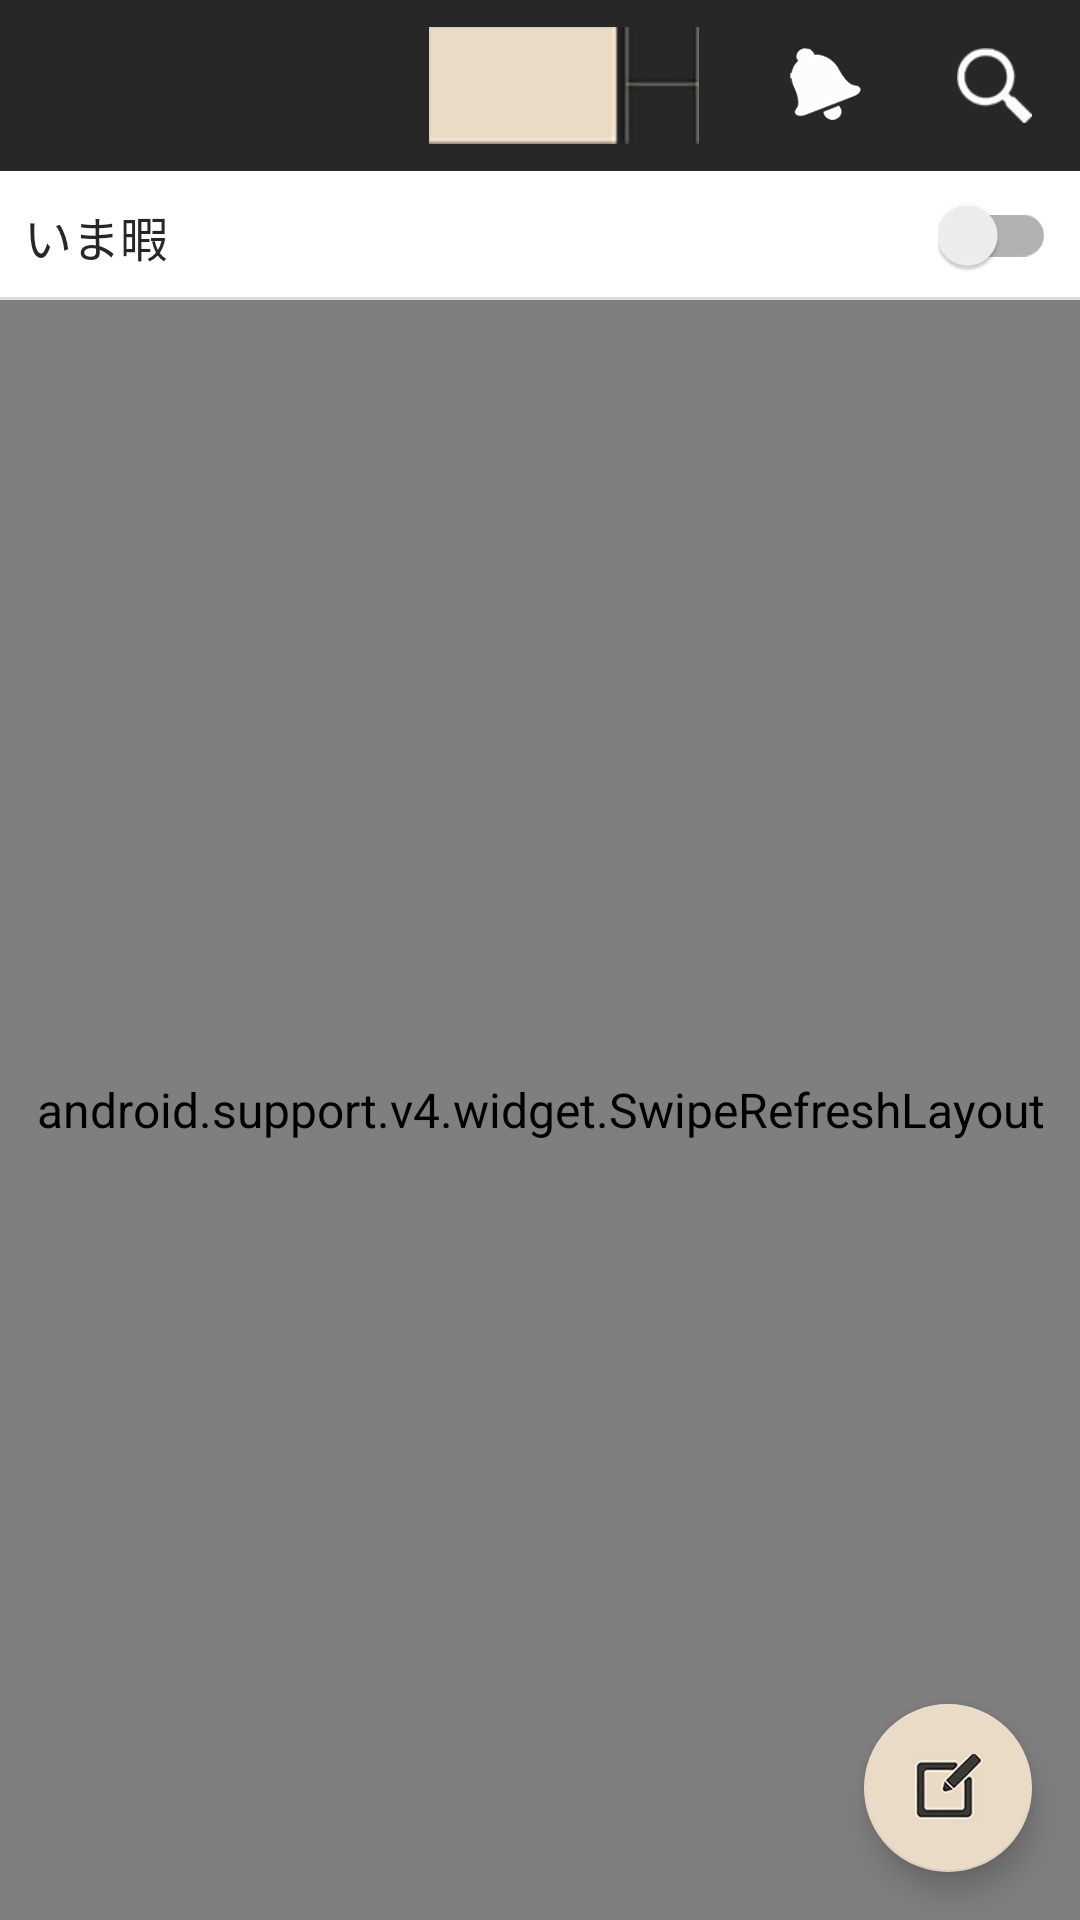

Named icons in this screenshot (1080×1920) and their centers, [x,y]:
notification: [825,84]
post: [948,1788]
search: [994,85]
